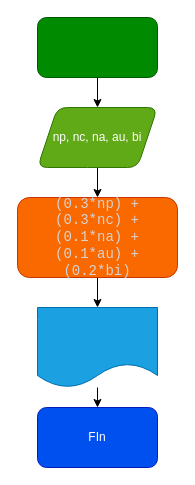
Some shapes in this 195 by 485 pixel diagram are drawn without their labels. The centre of each missing label's shape, as x and y in pixels:
"Inicio" belongs at point (97, 47).
"nd" belongs at point (97, 347).
